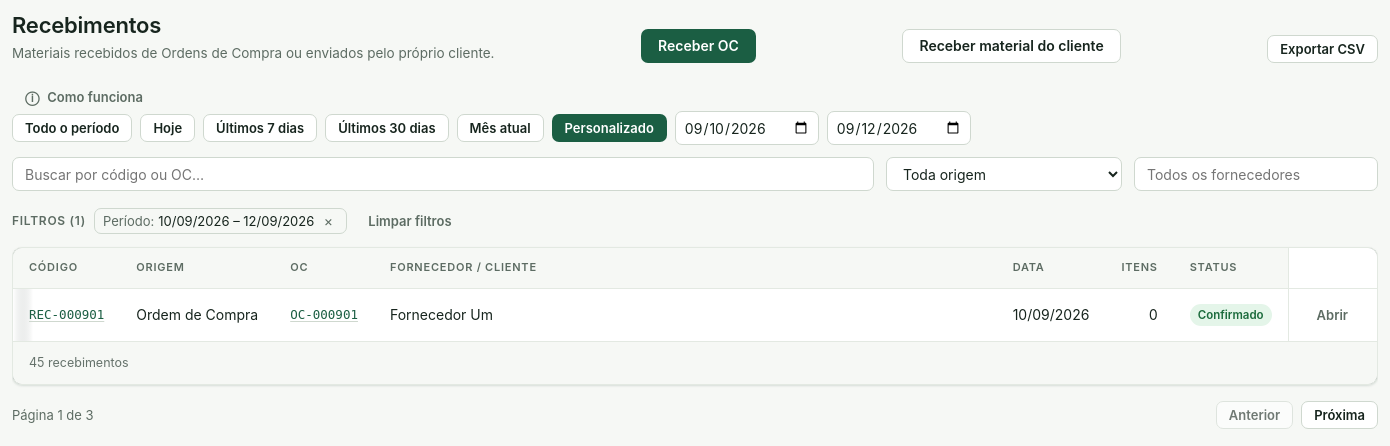
as seis perguntas do período, lista por lista › Recebimentos
Type "2026-09-10" into the 2nd date field named "Recebido até" at (899, 128), box [827,111,971,145]
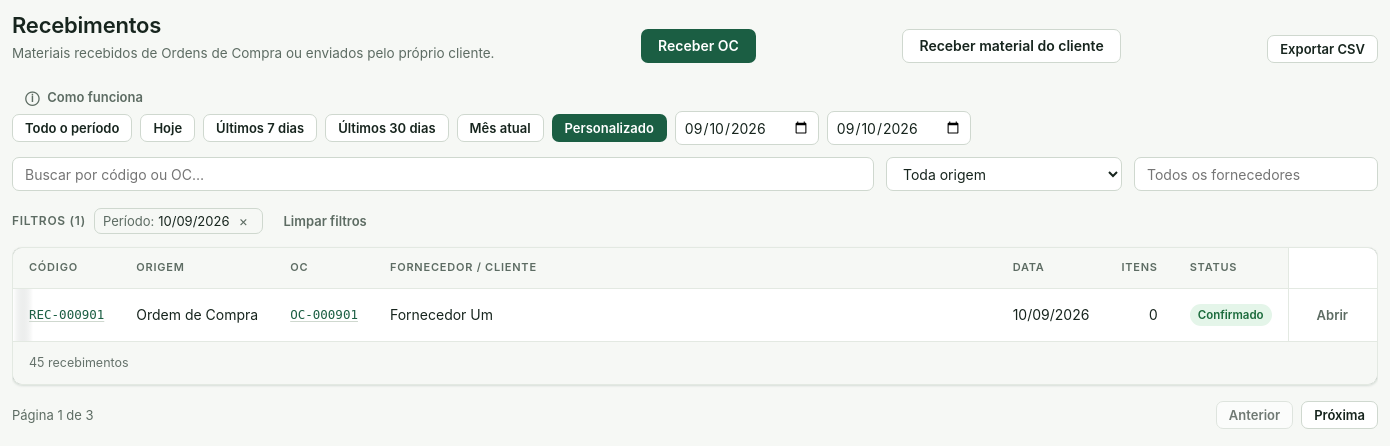
Expected: the link "REC-000901" is shown, [29,307,104,322]
Expected: the text "Página 1 de 3" is shown, [12,406,94,424]
Clear the 2nd date field named "Recebido até" at (899, 128), box [827,111,971,145]
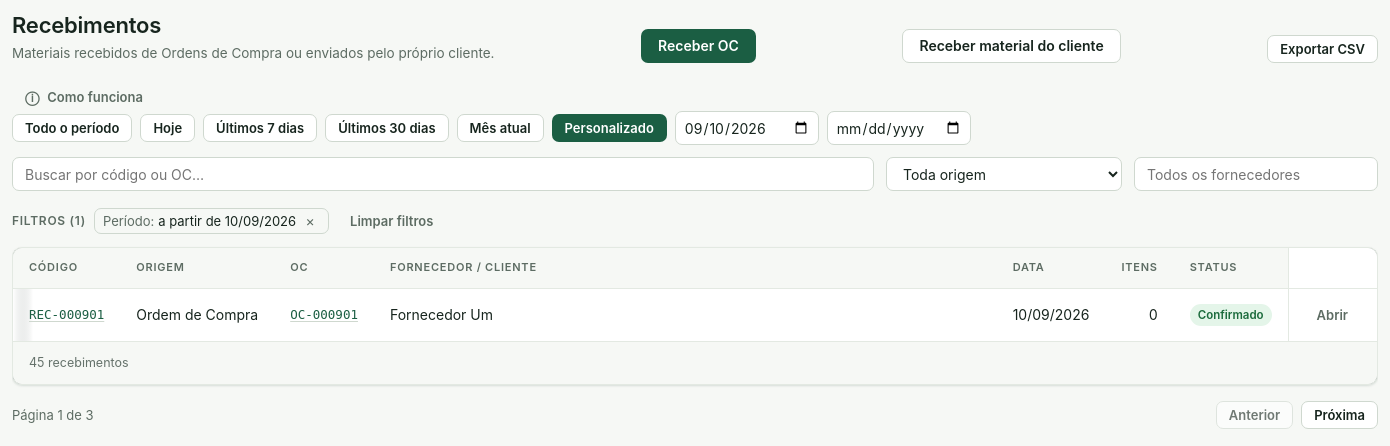
Expected: the link "REC-000901" is shown, [29,307,104,322]
Expected: the text "Página 1 de 3" is shown, [12,406,94,424]
Clear the 1st date field named "Recebido a partir de" at (747, 128), box [675,111,819,145]
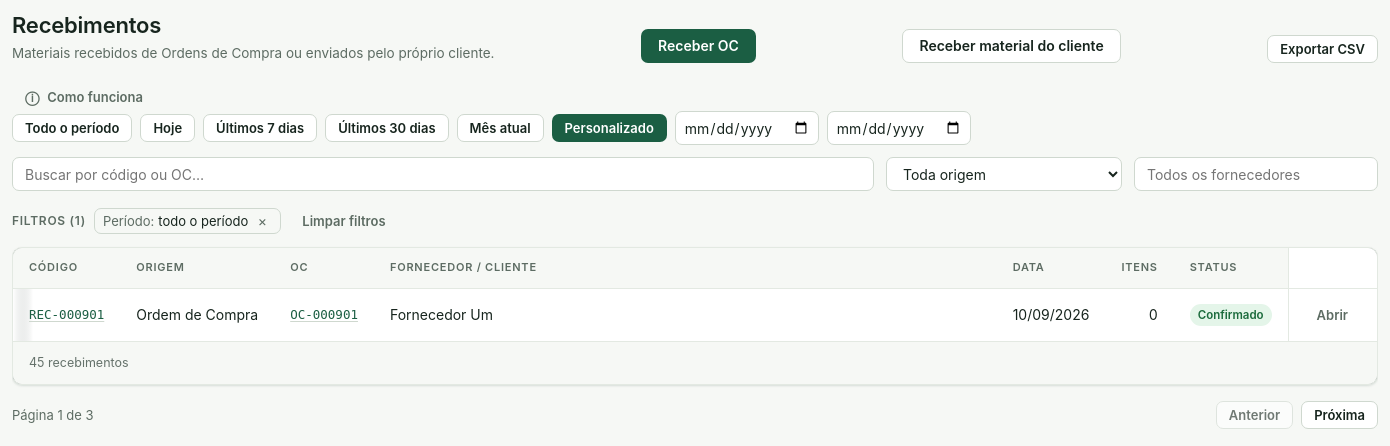
Expected: the link "REC-000901" is shown, [29,307,104,322]
Expected: the text "Página 1 de 3" is shown, [12,406,94,424]
Type "2026-09-10" into the 2nd date field named "Recebido até" at (899, 128), box [827,111,971,145]
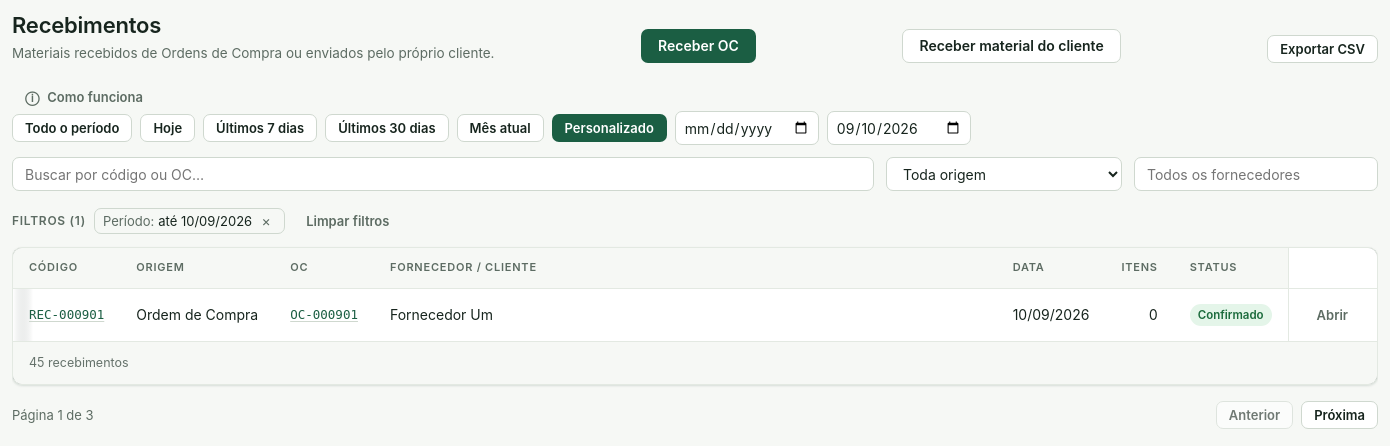
Expected: the link "REC-000901" is shown, [29,307,104,322]
Expected: the text "Página 1 de 3" is shown, [12,406,94,424]
Type "2026-09-11" into the 1st date field named "Recebido a partir de" at (747, 128), box [675,111,819,145]
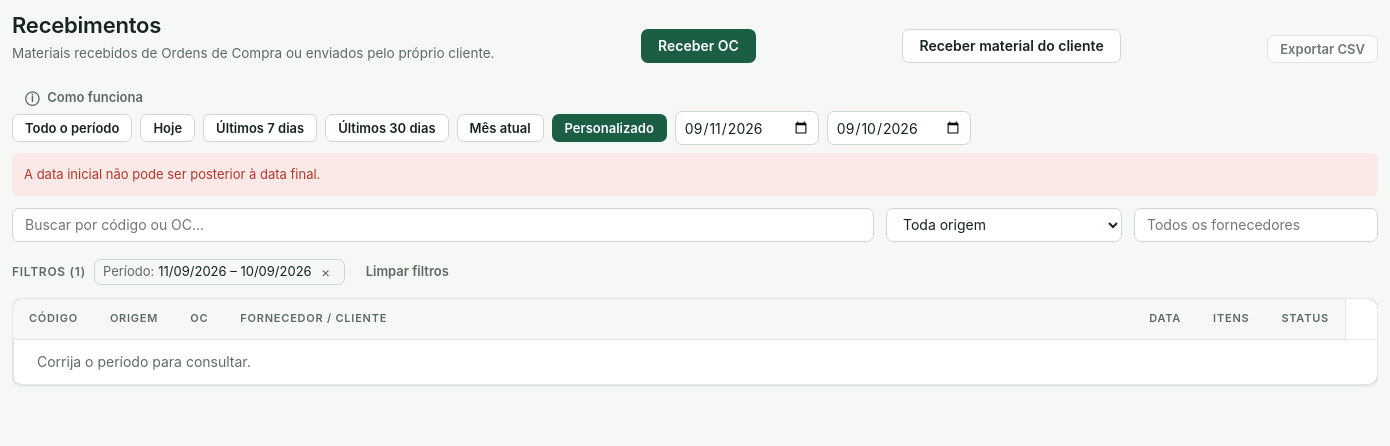
Result: the message "A data inicial não pode ser posterior à data final." is shown at [12,153,1378,196]
Result: the message reads "A data inicial não pode ser posterior à data final." at [24,166,320,182]
Result: the text "Corrija o período para consultar." is shown at [37,353,251,370]
Type "2026-09-11" into the 2nd date field named "Recebido até" at (899, 128), box [827,111,971,145]
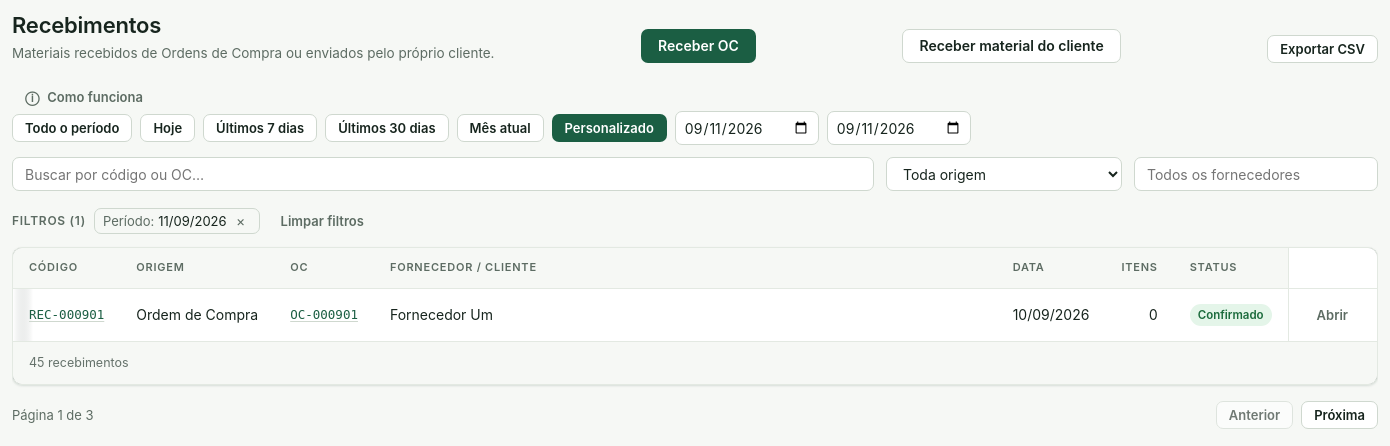
Result: the link "REC-000901" is shown at [29,307,104,322]
Result: the text "Página 1 de 3" is shown at [12,406,94,424]
Result: the message "A data inicial não pode ser posterior à data final." is gone
